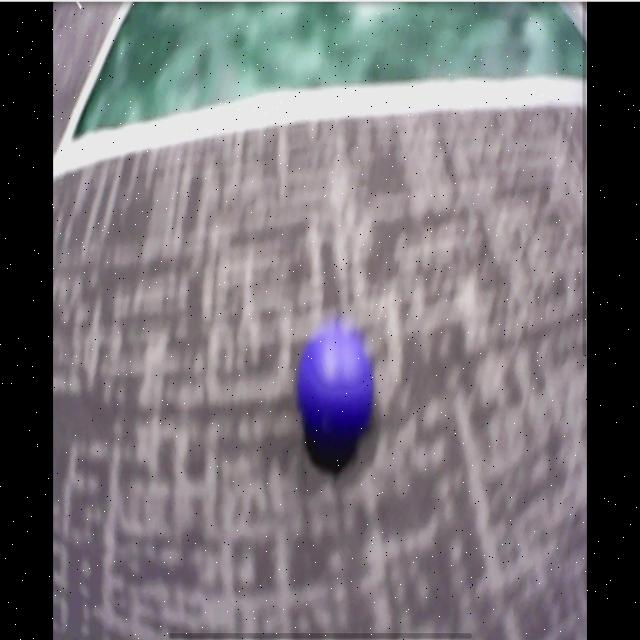ball: (299, 328, 374, 439)
